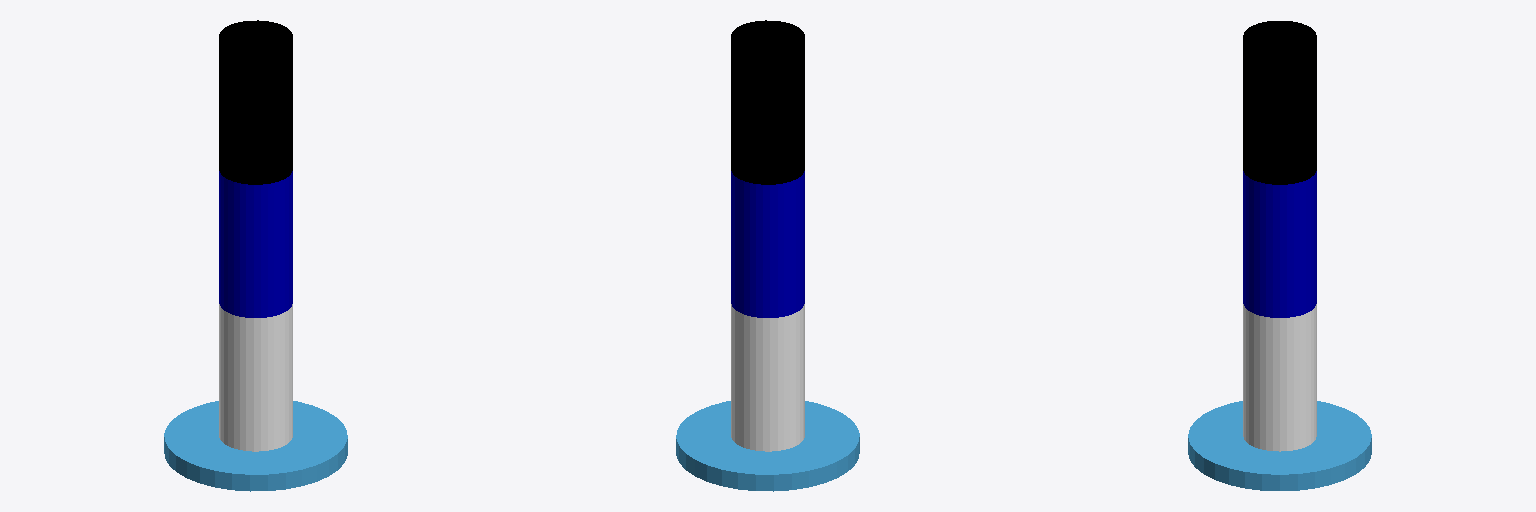
The robot description file, URDF, robot "bot1":
<?xml version="1.0"?>
<robot name="bot1">

  <link name="world" />

  <material name="black">
    <color rgba="0 0 0 1" />
  </material>

  <material name="blue">
    <color rgba="0 0 0.8 1" />
  </material>

  <material name="white">
    <color rgba="1 1 1 1" />
  </material>

  <link name="base_link">
    <inertial>
      <mass value="5.0" />
      <origin xyz="0 0 0.05" rpy="0 0 0" />
      <inertia ixx="0.1" ixy="0.0" ixz="0.0" iyy="0.1" iyz="0.0" izz="0.1" />
    </inertial>

    <visual>
      <geometry>
        <cylinder length="0.1" radius="0.5" />
      </geometry>
      <origin xyz="0 0 0.05" rpy="0 0 0" />
    </visual>

    <collision>
      <geometry>
        <cylinder length="0.1" radius="0.5" />
      </geometry>
      <origin xyz="0 0 0.05" rpy="0 0 0" />
    </collision>


  </link>

  <link name="arm1">
    <inertial>
      <mass value="2.0" />
      <origin xyz="0 0 0.4" rpy="0 0 0" />
      <inertia ixx="0.02" ixy="0.0" ixz="0.0" iyy="0.02" iyz="0.0" izz="0.005" />
    </inertial>

    <visual>
      <geometry>
        <cylinder length="0.8" radius="0.2" />
      </geometry>
      <origin xyz="0 0 0.4" rpy="0 0 0" />
      <material name="white" />
    </visual>

    <collision>
      <geometry>
        <cylinder length="0.8" radius="0.2" />
      </geometry>
      <origin xyz="0 0 0.4" rpy="0 0 0" />
    </collision>

  </link>

  <joint name="base_to_world" type="fixed">
    <parent link="world" />
    <child link="base_link" />
    <origin xyz="0 0 0" />
  </joint>

  <joint name="bodytoarm1" type="revolute">
    <parent link="base_link" />
    <child link="arm1" />
    <origin xyz="0 0 0.1" rpy="0 0 0" />
    <axis xyz="0 0 1" />
    <limit lower="-3.14" upper="3.14" effort="20.0" velocity="1.0" />
  </joint>


  <link name="arm2">
    <inertial>
      <mass value="1.5" />
      <origin xyz="0 0 0.4" rpy="0 0 0" />
      <inertia ixx="0.015" ixy="0.0" ixz="0.0" iyy="0.015" iyz="0.0" izz="0.004" />
    </inertial>

    <visual>
      <geometry>
        <cylinder length="0.8" radius="0.2" />
      </geometry>
      <origin xyz="0 0 0.4" rpy="0 0 0" />
      <material name="blue" />
    </visual>

    <collision>
      <geometry>
        <cylinder length="0.8" radius="0.2" />
      </geometry>
      <origin xyz="0 0 0.4" rpy="0 0 0" />
    </collision>

  </link>


  <joint name="arm1toarm2" type="revolute">
    <parent link="arm1" />
    <child link="arm2" />
    <origin xyz="0 0 0.8" rpy="0 0 0" />
    <axis xyz="0 1 0" />
    <limit lower="-1.57" upper="1.57" effort="15.0" velocity="1.0" />
  </joint>


  <link name="arm3">

    <inertial>
      <mass value="1.0" />
      <origin xyz="0 0 0.4" rpy="0 0 0" />
      <inertia ixx="0.01" ixy="0.0" ixz="0.0" iyy="0.01" iyz="0.0" izz="0.002" />
    </inertial>

    <visual>
      <geometry>
        <cylinder length="0.8" radius="0.2" />
      </geometry>
      <origin xyz="0 0 0.4" rpy="0 0 0" />
      <material name="black" />
    </visual>

    <collision>
      <geometry>
        <cylinder length="0.8" radius="0.2" />
      </geometry>
      <origin xyz="0 0 0.4" rpy="0 0 0" />
    </collision>

  </link>

  <joint name="arm2toarm3" type="revolute">
    <parent link="arm2" />
    <child link="arm3" />
    <origin xyz="0 0 0.8" rpy="0 0 0" />
    <axis xyz="1 0 0" />
    <limit lower="-1.57" upper="1.57" effort="10.0" velocity="1.0" />
  </joint>

  <ros2_control name="GazeboSystem" type="system">
    <hardware>
      <plugin>gazebo_ros2_control/GazeboSystem</plugin>
    </hardware>

    <joint name="bodytoarm1">
      <command_interface name="position">
        <param name="min">-3.142</param>
        <param name="max">3.142</param>
      </command_interface>
      <state_interface name="position" />
      <state_interface name="velocity" />
      <state_interface name="effort" />
    </joint>

    <joint name="ar1toarm2">
      <command_interface name="position">
        <param name="min">-1.57</param>
        <param name="max">1.57</param>
      </command_interface>
      <state_interface name="position" />
      <state_interface name="velocity" />
      <state_interface name="effort" />
    </joint>

    <joint name="rev_3">
      <command_interface name="position">
        <param name="min">-1.57</param>
        <param name="max">1.57</param>
      </command_interface>
      <state_interface name="position" />
      <state_interface name="velocity" />
      <state_interface name="effort" />
    </joint>
  </ros2_control>

  <gazebo>
    <plugin filename="libgazebo_ros2_control.so" name="gazebo_ros2_control">
      <parameters>[local-path]/Documents/3arm_robotic_manipulator/DC/config/robot_config.yaml</parameters>
    </plugin>
  </gazebo>
</robot>

--- Render facts (derived) ---
3 views of the same robot in one strip: view 1: azimuth 30°, elevation 25°; view 2: azimuth 150°, elevation 25°; view 3: azimuth 270°, elevation 25° (orthographic).
Robot: bot1 — 5 links, 4 joints (3 revolute, 1 fixed); root link world; default pose: all joints at 0.
Links seen in each view (by area): view 1: arm3, base_link, arm1, arm2; view 2: arm3, base_link, arm1, arm2; view 3: arm3, base_link, arm1, arm2.
Link boxes in pixels (x1,y1,x2,y2): arm3: (219,20,292,184); base_link: (164,401,347,491); arm1: (219,304,292,451); arm2: (219,171,292,317); arm3: (731,20,804,184); base_link: (676,401,859,491); arm1: (731,304,804,451); arm2: (731,171,804,317); arm3: (1243,21,1316,184); base_link: (1188,401,1371,490); arm1: (1243,304,1316,451); arm2: (1243,171,1316,317).
Size in the robot's own frame: 1 by 1 by 2.5 metres.
Geometry: primitives only (box / cylinder / sphere), no mesh files.
